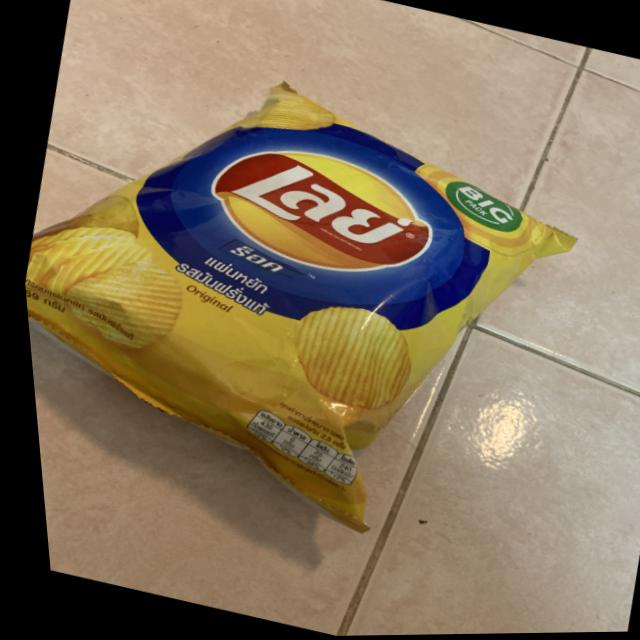LayYellow: (3, 40, 543, 538)
